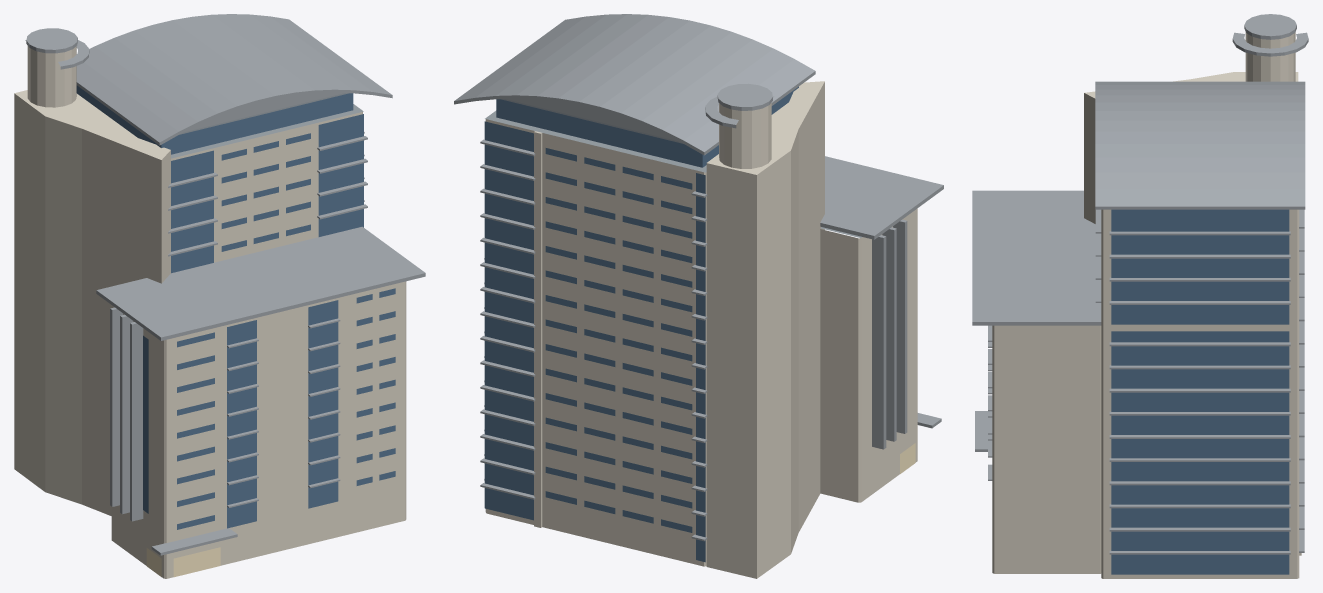
The model's file is pdx-hatfield-courthouse.glb.
The picture shows the model from 3 angles, left to right: view 1: azimuth 30°, elevation 25°; view 2: azimuth 150°, elevation 25°; view 3: azimuth 270°, elevation 25°; orthographic projection. The views are drawn at different scales.
Visible parts, largest first — view 1: Mark O. Hatfield United States Courthouse; view 2: Mark O. Hatfield United States Courthouse; view 3: Mark O. Hatfield United States Courthouse.
Part boxes in pixels (box(x1,y1,x2,y2)): Mark O. Hatfield United States Courthouse: box(14, 14, 425, 578); Mark O. Hatfield United States Courthouse: box(454, 14, 943, 578); Mark O. Hatfield United States Courthouse: box(972, 14, 1308, 578).
Size of the model in its own units: 68.3 by 97 by 67.08.
